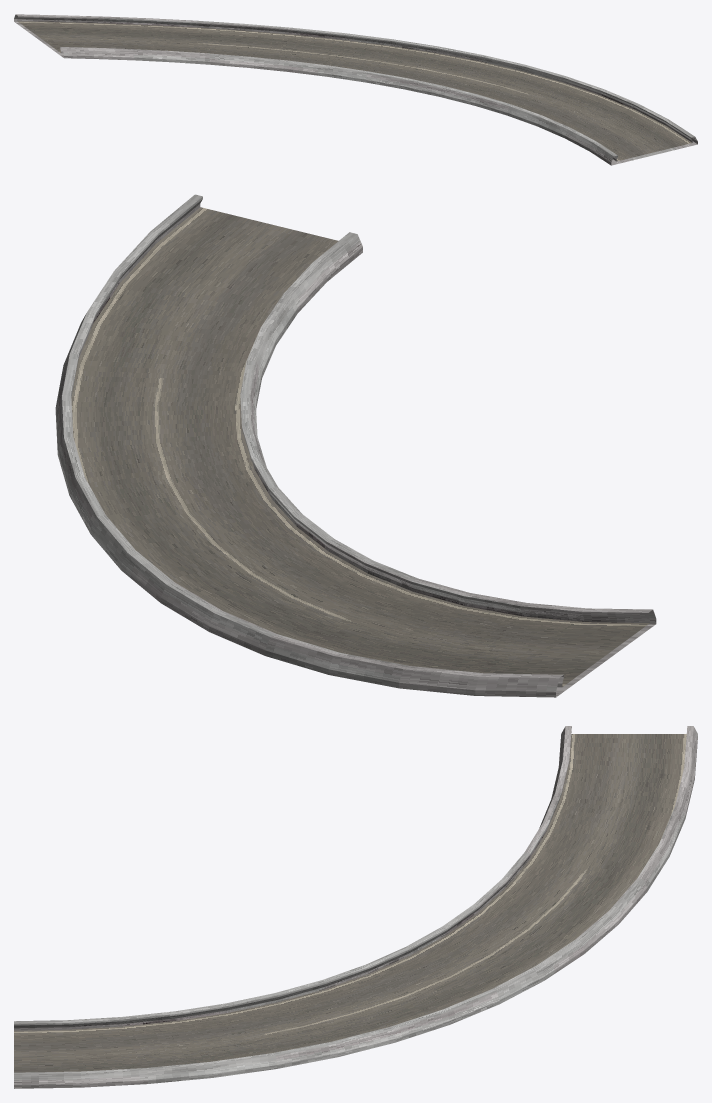
The model's file is road-Turn-Flat-BiSlopeUp-Up2-Left-Size5.glb.
3 renders of one model, top to bottom at view 1: azimuth 30°, elevation 25°; view 2: azimuth 150°, elevation 25°; view 3: azimuth 270°, elevation 25°, orthographic. The views are drawn at different scales.
Parts seen in each view (by area): view 1: road-Turn-Flat-BiSlopeUp-Up2-Left-Size5; view 2: road-Turn-Flat-BiSlopeUp-Up2-Left-Size5; view 3: road-Turn-Flat-BiSlopeUp-Up2-Left-Size5.
Boxes of the visible parts, left/top/right/bottom form: road-Turn-Flat-BiSlopeUp-Up2-Left-Size5: left=14, top=14, right=697, bottom=165; road-Turn-Flat-BiSlopeUp-Up2-Left-Size5: left=55, top=194, right=656, bottom=697; road-Turn-Flat-BiSlopeUp-Up2-Left-Size5: left=14, top=726, right=697, bottom=1088.
Size of the model in its own units: 5 by 0.6175 by 5.
2 materials, 2 textured.
